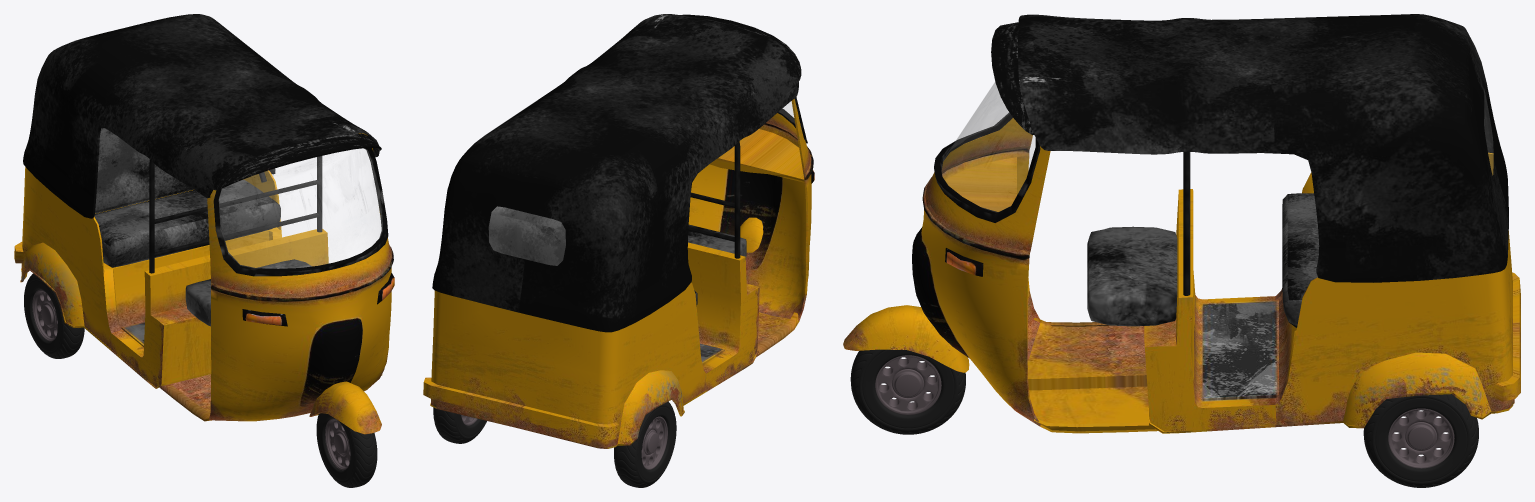
The model's file is keke-8.glb.
3 renders of one model, left to right at view 1: azimuth 30°, elevation 25°; view 2: azimuth 150°, elevation 25°; view 3: azimuth 270°, elevation 25°, orthographic. The views are drawn at different scales.
Visible parts, largest first — view 1: Plane.001, Plane.002, Plane.003, Rin, Rin.001; view 2: Plane.002, Plane.001, Rin.001, Plane.003; view 3: Plane.002, Plane.001, Rin.001, Rin, Plane.003.
Part boxes in pixels (x1=…): Plane.001: x1=14, y1=133, x2=394, y2=434; Plane.002: x1=23, y1=14, x2=379, y2=326; Plane.003: x1=219, y1=148, x2=382, y2=268; Rin: x1=316, y1=413, x2=377, y2=487; Rin.001: x1=24, y1=273, x2=84, y2=358; Plane.002: x1=432, y1=14, x2=798, y2=332; Plane.001: x1=423, y1=14, x2=814, y2=448; Rin.001: x1=433, y1=401, x2=676, y2=487; Plane.003: x1=489, y1=101, x2=794, y2=265; Plane.002: x1=1018, y1=14, x2=1508, y2=327; Plane.001: x1=843, y1=22, x2=1520, y2=433; Rin.001: x1=1363, y1=394, x2=1478, y2=487; Rin: x1=850, y1=349, x2=965, y2=434; Plane.003: x1=941, y1=82, x2=1493, y2=212.
Bounding box in the file's own units: 1.24 × 1.82 × 2.89.
Materials: 5 (3 with a texture image).
